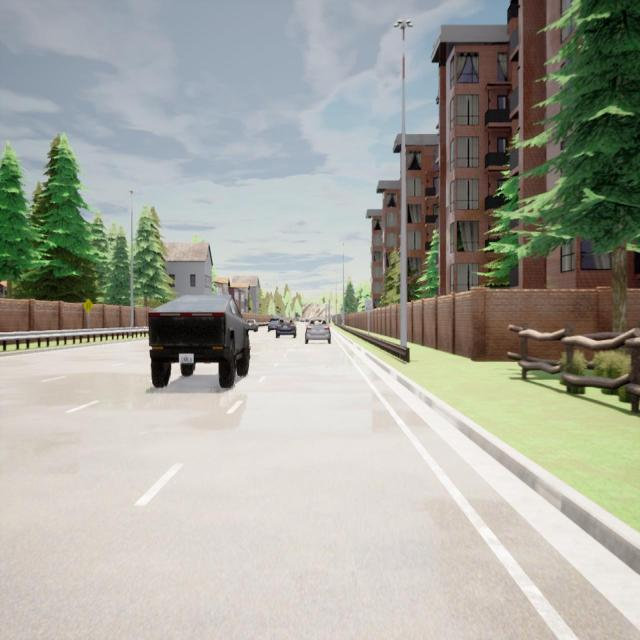Traffic_Signs: (83, 298, 93, 312), (365, 299, 372, 310)
Vehicle: (148, 294, 250, 389), (305, 318, 331, 344), (275, 318, 297, 339), (267, 318, 280, 333), (246, 320, 259, 332)
